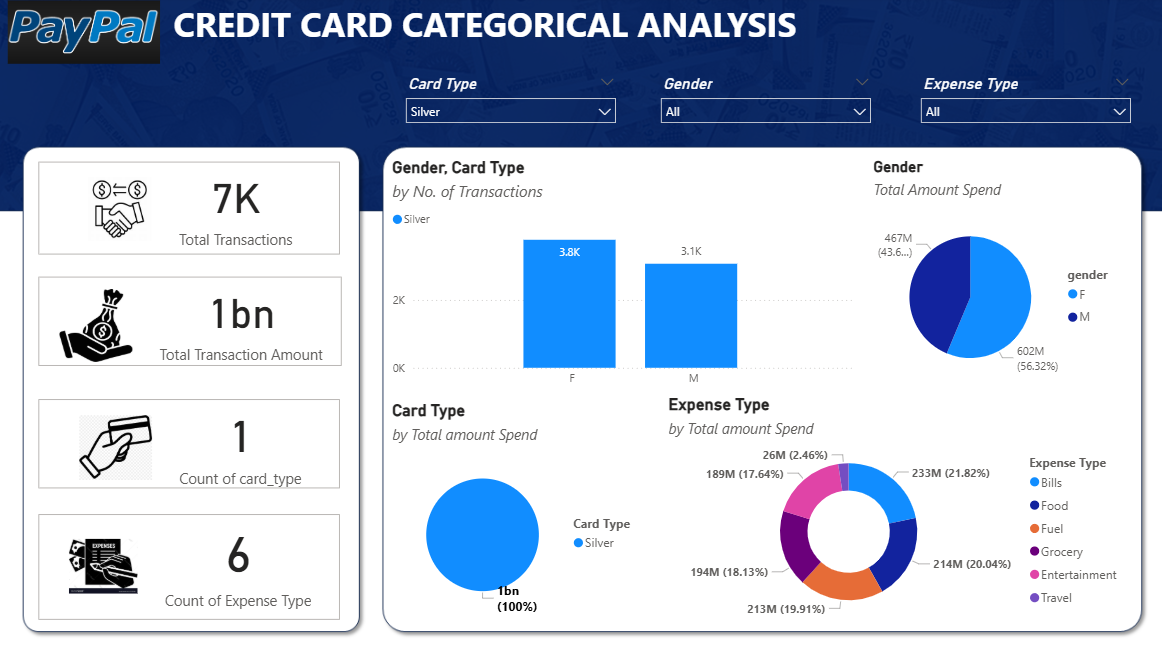

What the dashboard file says about the page in this screenshot:
{"tool":"powerbi","page":{"name":"Categorical analysis","canvas":[1280,720],"ordinal":1},"visuals":[{"type":"clusteredColumnChart","title":"Gender, Card Type","fields":{"Category":["credit_card_transactions.gender"],"Y":["credit_card_transactions.Transaction Count"],"Series":["credit_card_transactions.card_type"]},"box":[426.8,177,514.6,260.7],"z":0},{"type":"donutChart","title":" Expense Type","fields":{"Category":["credit_card_transactions.Expense Type"],"Y":["Sum(credit_card_transactions.amount)"]},"box":[730,437.7,511.8,252.5],"z":1000},{"type":"pieChart","title":"Card Type","fields":{"Y":["credit_card_transactions.Total Spend"],"Category":["credit_card_transactions.card_type"]},"box":[426.8,444.6,289.5,245.6],"z":2000},{"type":"slicer","title":"Gender","fields":{"Values":["credit_card_transactions.gender"]},"box":[716.3,81,251.1,83.7],"z":3000},{"type":"slicer","title":"Gender","fields":{"Values":["credit_card_transactions.Expense Type"]},"box":[1001.7,81,251.1,83.7],"z":4000},{"type":"slicer","title":"Gender","fields":{"Values":["credit_card_transactions.card_type"]},"box":[436.4,81,251.1,83.7],"z":5000},{"type":"pieChart","title":"Gender","fields":{"Category":["credit_card_transactions.gender"],"Y":["credit_card_transactions.Total Spend"]},"box":[955.1,177,286.8,260.7],"z":6000},{"type":"cardVisual","title":"Gender","fields":{"Data":["Count(credit_card_transactions.card_type)"]},"box":[38.4,437.7,341.7,108.4],"z":7000},{"type":"cardVisual","title":"Gender","fields":{"Data":["Count(credit_card_transactions.Expense Type)"]},"box":[38.4,564,341.7,126.2],"z":8000},{"type":"textbox","box":[186.6,0,815.1,81],"z":9000},{"type":"cardVisual","title":"Total Transactions","fields":{"Data":["CountNonNull(credit_card_transactions.transaction_id)"]},"box":[38.4,177,341.7,112.5],"z":10000},{"type":"image","box":[0,0,186.6,79.6],"z":11000},{"type":"cardVisual","title":"Total Transactions","fields":{"Data":["credit_card_transactions.Total Spend"]},"box":[37.8,303.9,343,108],"z":12000}]}

Visuals, with their boxes in screenshot pixels (x1, y1, x2, y2), scaled from the page's 1280x720 canvas onto the 1162x645 screenshot:
"Gender, Card Type" clusteredColumnChart: 387,159,855,392
" Expense Type" donutChart: 663,392,1127,618
"Card Type" pieChart: 387,398,650,618
"Gender" slicer: 650,73,878,148
"Gender" slicer: 909,73,1137,148
"Gender" slicer: 396,73,624,148
"Gender" pieChart: 867,159,1127,392
"Gender" cardVisual: 35,392,345,489
"Gender" cardVisual: 35,505,345,618
textbox: 169,0,909,73
"Total Transactions" cardVisual: 35,159,345,259
image: 0,0,169,71
"Total Transactions" cardVisual: 34,272,346,369
